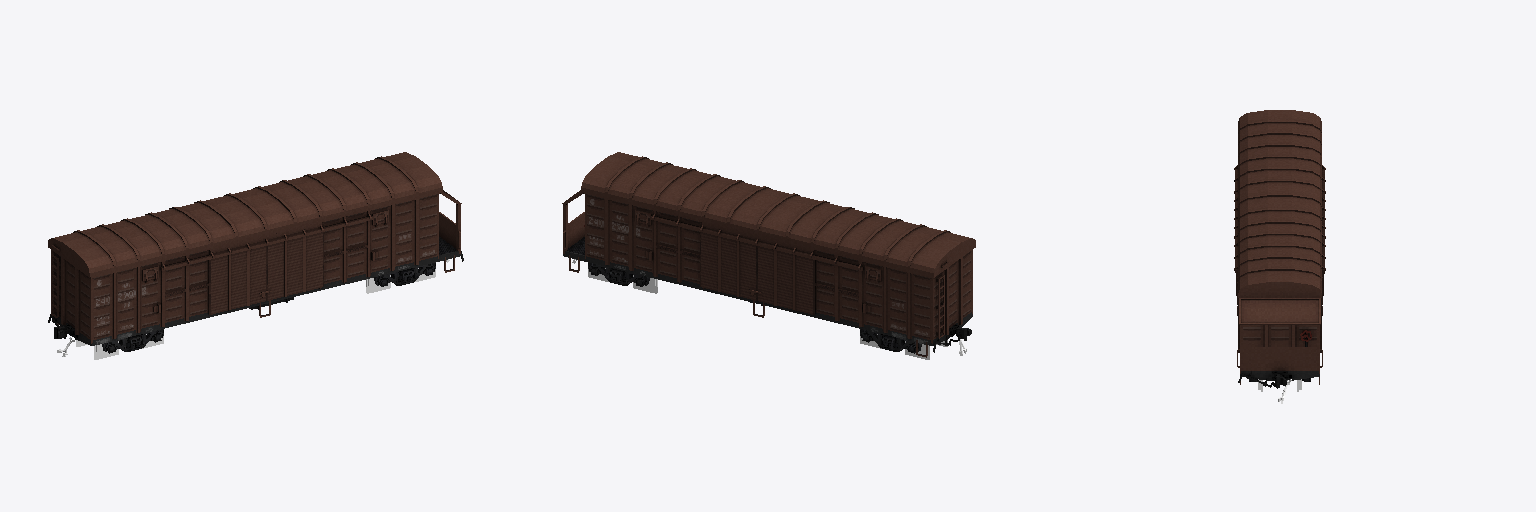
The picture shows the model from 3 angles: view 1: azimuth 30°, elevation 25°; view 2: azimuth 150°, elevation 25°; view 3: azimuth 270°, elevation 25°; orthographic projection.
Visible parts, largest first — view 1: FRAME_freightB, DOOR_3_TL_-2.5_X_freightB, DOOR_4_TL_2.5_X_freightB, BOGEY_REAR_freightB, BOGEY_FRONT_freightB; view 2: FRAME_freightB, DOOR_1_TL_-2.5_X_freightB, DOOR_2_TL_2.5_X_freightB, BOGEY_REAR_freightB, BOGEY_FRONT_freightB; view 3: FRAME_freightB.
Boxes of the visible parts, box(x1,y1,x2,y2) form: FRAME_freightB: box(48, 152, 461, 345); DOOR_3_TL_-2.5_X_freightB: box(209, 246, 266, 314); DOOR_4_TL_2.5_X_freightB: box(260, 232, 323, 300); BOGEY_REAR_freightB: box(374, 263, 435, 286); BOGEY_FRONT_freightB: box(102, 329, 163, 353); FRAME_freightB: box(562, 152, 975, 357); DOOR_1_TL_-2.5_X_freightB: box(749, 246, 814, 314); DOOR_2_TL_2.5_X_freightB: box(700, 232, 756, 300); BOGEY_REAR_freightB: box(588, 263, 649, 286); BOGEY_FRONT_freightB: box(860, 329, 921, 353); FRAME_freightB: box(1234, 110, 1325, 388).
Size of the model in its own units: 18.75 by 5.01 by 3.69.
Materials: 4 (2 with a texture image).